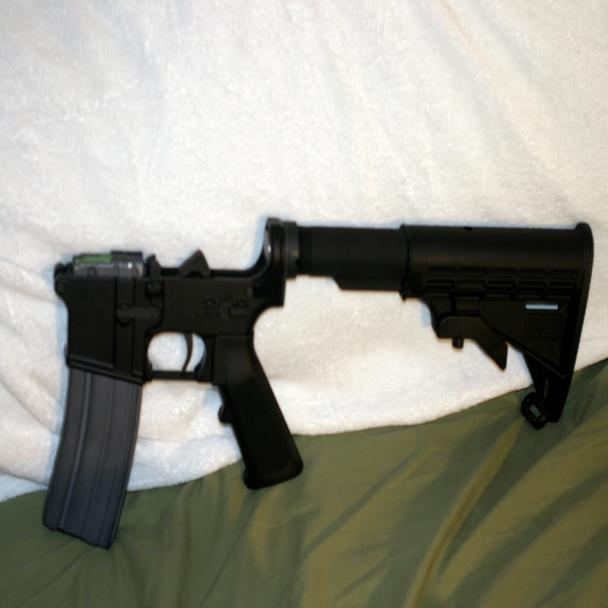Gun: (42, 211, 598, 563)
